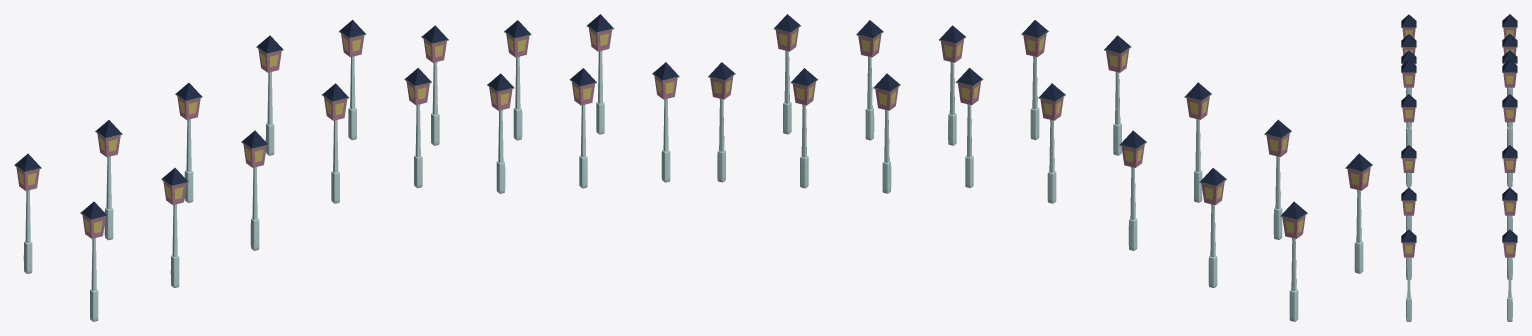
File: Street_light01.fbx
3 views of the same model, side by side, from view 1: azimuth 30°, elevation 25°; view 2: azimuth 150°, elevation 25°; view 3: azimuth 270°, elevation 25° (orthographic). The views are drawn at different scales.
Visible parts, largest first — view 1: Street_light01; view 2: Street_light01; view 3: Street_light01.
Part boxes in pixels (x1,y1,x2,y2): Street_light01: (14, 14, 679, 321); Street_light01: (708, 14, 1372, 321); Street_light01: (1401, 14, 1517, 321).
Size of the model in its own units: 134 by 38.79 by 29.75.
